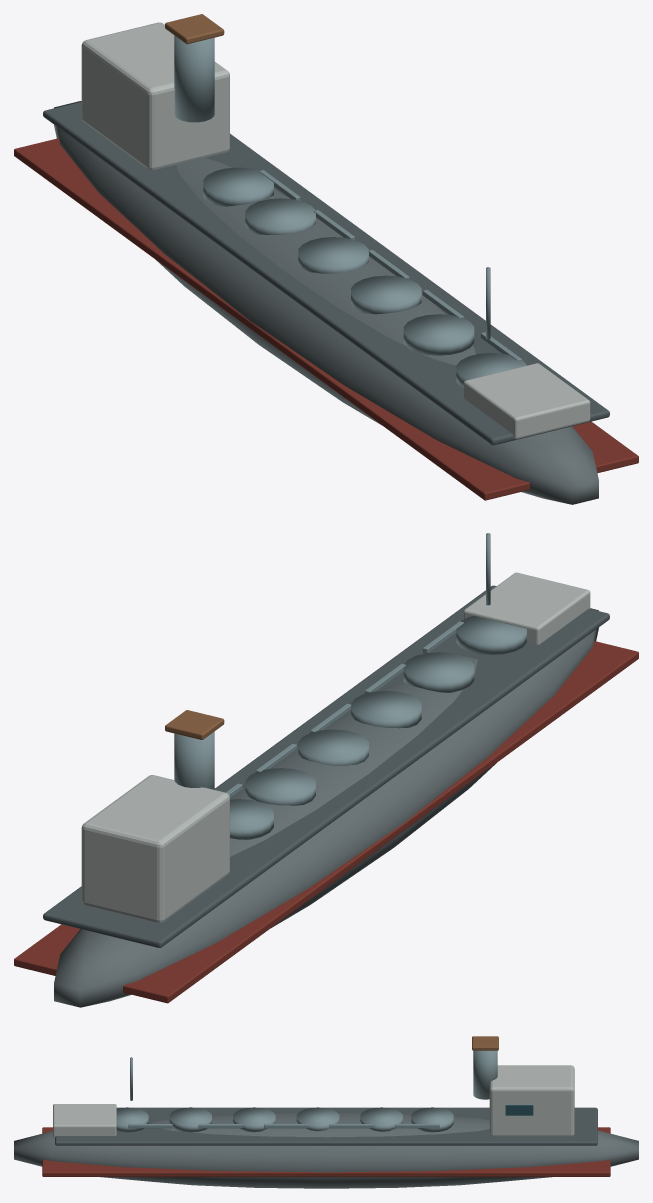
Rendered from tanker-lod2.glb.
3 renders of one model, top to bottom at view 1: azimuth 30°, elevation 25°; view 2: azimuth 150°, elevation 25°; view 3: azimuth 270°, elevation 25°, orthographic. The views are drawn at different scales.
Parts seen in each view (by area): view 1: tanker-hull, tanker-deck, aft-bridge, tanker-waterline, forecastle, funnel-stack, cargo-tank-1, cargo-tank-2, cargo-tank-5, cargo-tank-4, cargo-tank-3, cargo-tank-0 (+1 smaller); view 2: tanker-hull, tanker-deck, aft-bridge, tanker-waterline, forecastle, cargo-tank-1, cargo-tank-4, cargo-tank-2, cargo-tank-3, cargo-tank-0, funnel-stack, cargo-tank-5 (+1 smaller); view 3: tanker-hull, tanker-deck, aft-bridge, tanker-waterline, forecastle, funnel-stack, cargo-tank-1, cargo-tank-2, cargo-tank-5, cargo-tank-4, cargo-tank-3, cargo-tank-0 (+2 smaller).
Boxes of the visible parts, x1,y1,x2,y2 form: tanker-hull: [54, 101, 598, 504]; tanker-deck: [43, 101, 609, 445]; aft-bridge: [81, 22, 229, 170]; tanker-waterline: [14, 138, 638, 500]; forecastle: [463, 363, 590, 439]; funnel-stack: [174, 35, 214, 122]; cargo-tank-1: [403, 314, 474, 355]; cargo-tank-2: [351, 275, 421, 314]; cargo-tank-5: [203, 167, 273, 206]; cargo-tank-4: [245, 198, 315, 234]; cargo-tank-3: [298, 237, 368, 273]; cargo-tank-0: [456, 353, 526, 387]; tanker-hull: [54, 608, 598, 1007]; tanker-deck: [43, 585, 609, 947]; aft-bridge: [81, 775, 229, 922]; tanker-waterline: [14, 641, 638, 1003]; forecastle: [463, 572, 590, 644]; cargo-tank-1: [403, 652, 474, 692]; cargo-tank-4: [245, 768, 315, 805]; cargo-tank-2: [351, 691, 421, 728]; cargo-tank-3: [298, 729, 368, 765]; cargo-tank-0: [456, 616, 526, 654]; funnel-stack: [174, 731, 214, 789]; cargo-tank-5: [230, 799, 273, 839]; tanker-hull: [14, 1112, 638, 1188]; tanker-deck: [55, 1107, 597, 1145]; aft-bridge: [489, 1065, 574, 1136]; tanker-waterline: [42, 1127, 610, 1176]; forecastle: [53, 1104, 116, 1137]; funnel-stack: [473, 1050, 497, 1099]; cargo-tank-1: [169, 1107, 211, 1132]; cargo-tank-2: [233, 1107, 275, 1132]; cargo-tank-5: [411, 1107, 453, 1132]; cargo-tank-4: [360, 1107, 402, 1131]; cargo-tank-3: [296, 1107, 339, 1131]; cargo-tank-0: [116, 1107, 148, 1132].
Bounding box in the file's own units: 5.08 × 7.28 × 29.48.
